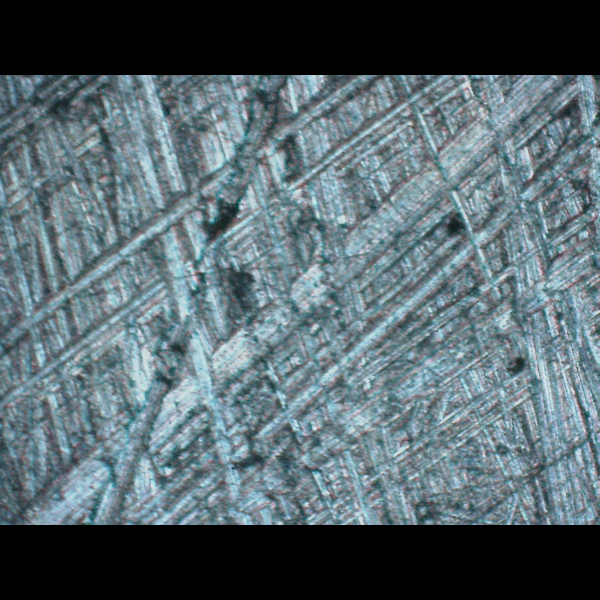d: (0, 74, 502, 516)
